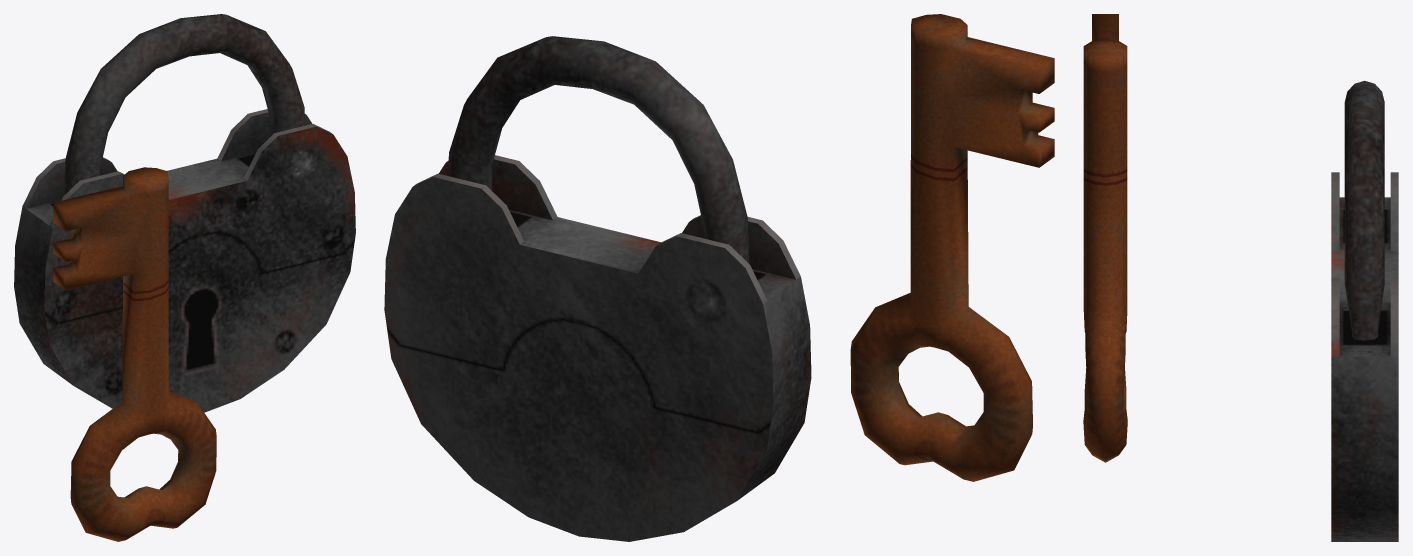
The model's file is lockandkey.fbx.
3 views of the same model, side by side, from view 1: azimuth 30°, elevation 25°; view 2: azimuth 150°, elevation 25°; view 3: azimuth 270°, elevation 25° (orthographic). The views are drawn at different scales.
Parts seen in each view (by area): view 1: lock.001, key.001; view 2: lock.001, key.001; view 3: lock.001, key.001.
Boxes of the visible parts, x1,y1,x2,y2 form: lock.001: (14,14,355,412); key.001: (53,167,216,541); lock.001: (384,36,811,541); key.001: (850,14,1054,481); lock.001: (1331,80,1398,541); key.001: (1083,14,1127,462).
Size of the model in its own units: 2556 by 2408 by 1581.
